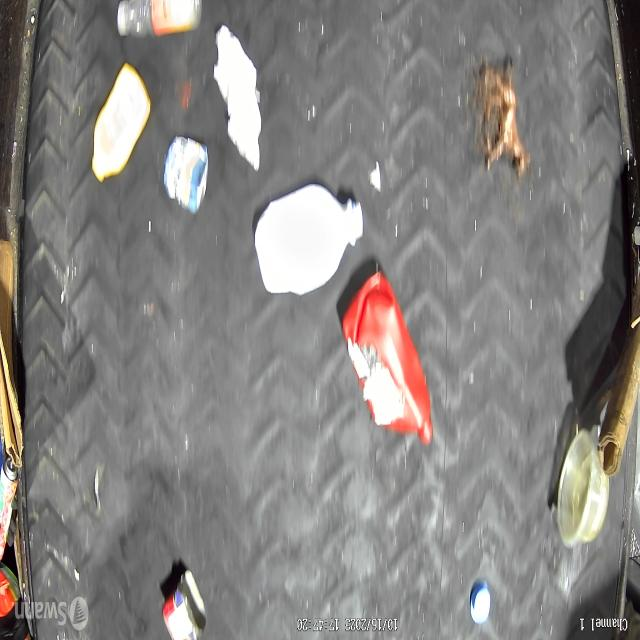can: (162, 136, 210, 214), (161, 568, 207, 640)
milk_jug: (253, 182, 364, 297)
non_white_jug: (340, 271, 434, 446), (90, 62, 150, 183)
plastic_bottle: (556, 428, 610, 550), (116, 0, 203, 39)
